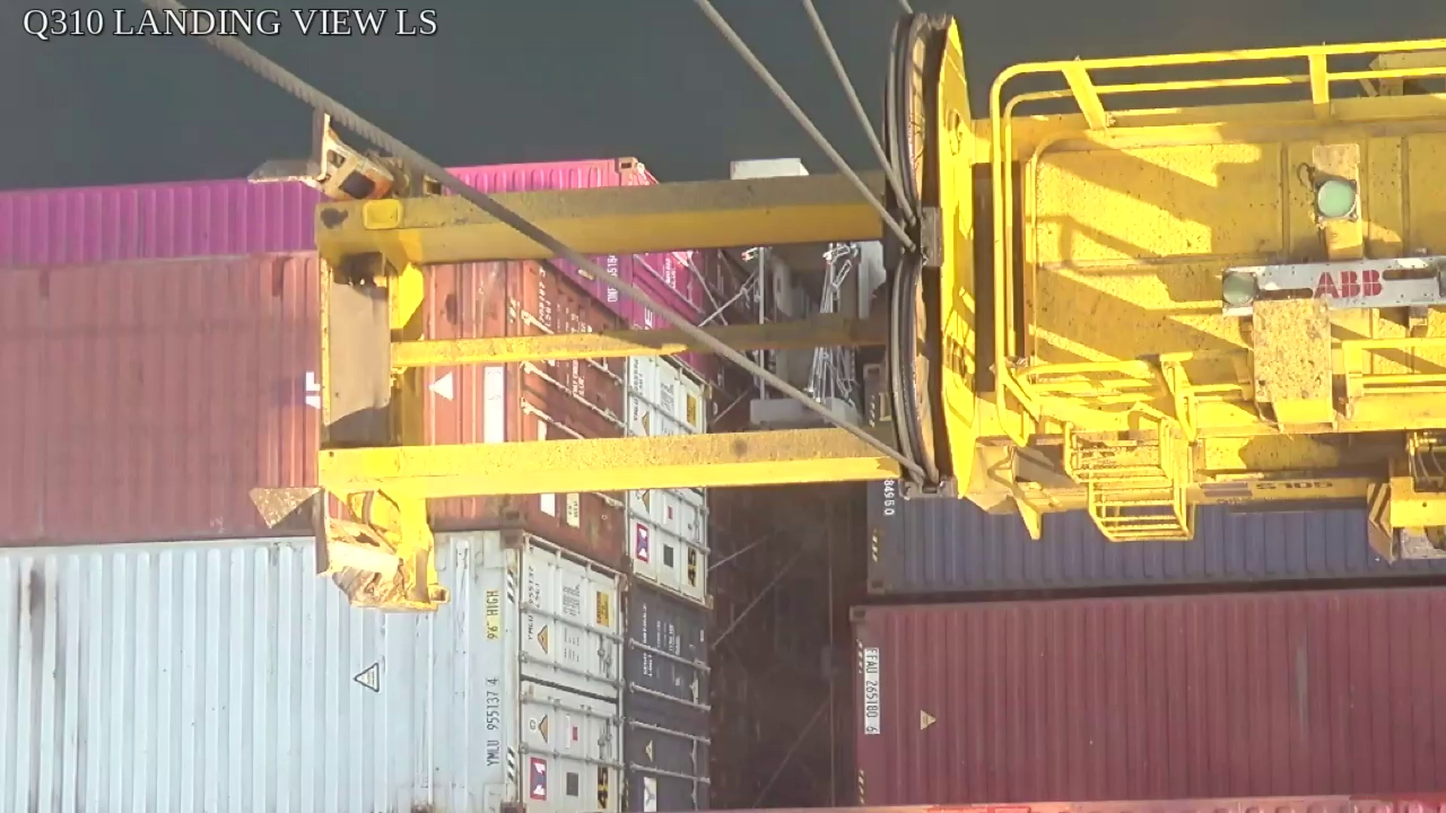aa: (884, 14, 979, 501)
